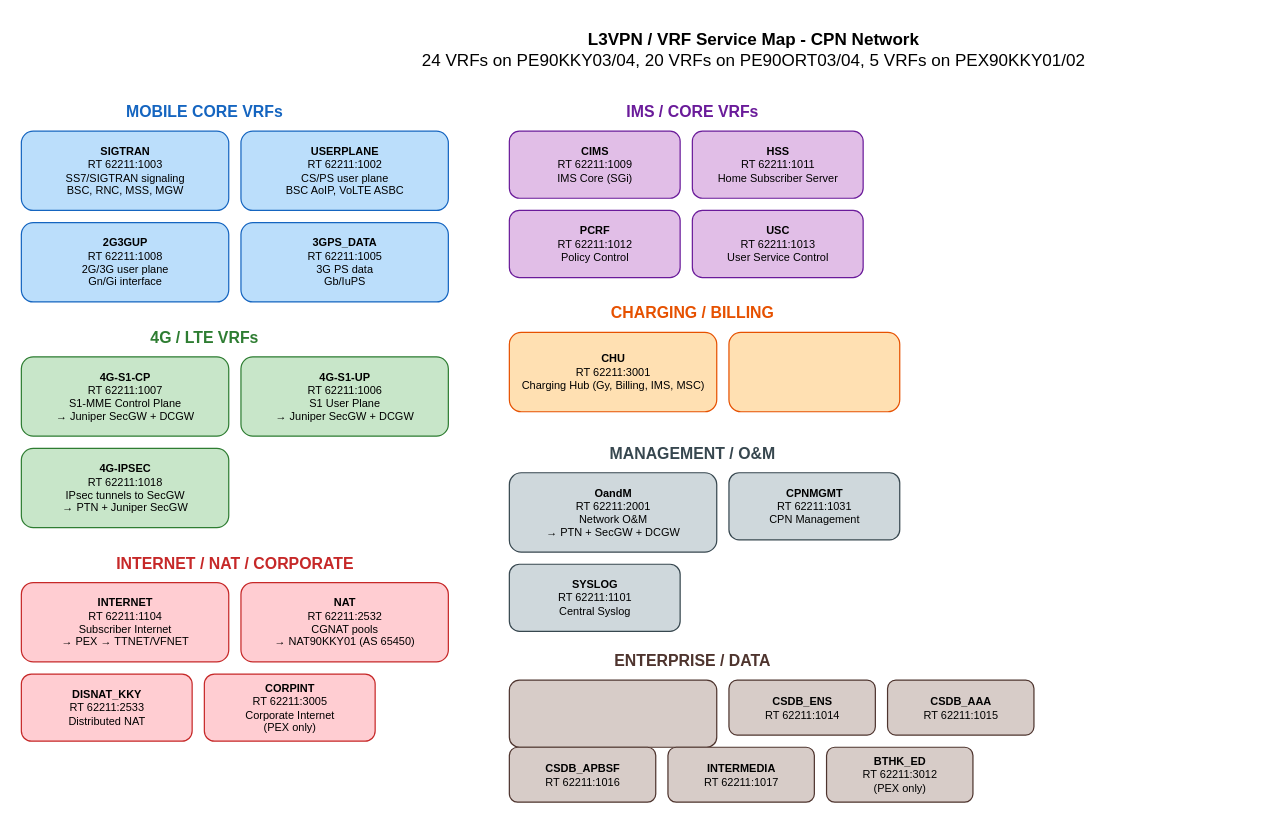
Image size: 1263x824. Some labels were removed from this diagram. The box of each missing label's shape, as (x1, y1, x2, y2) in pixels:
INOX RT 62211:3007 IPDR/Syslog/RADIUS: (728, 331, 900, 412)
VF RT 62211:4001 Operator Internal/Enterprise: (508, 679, 717, 747)
